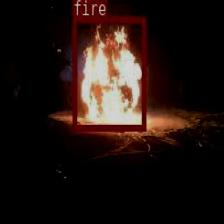fire: (72, 16, 145, 130)
